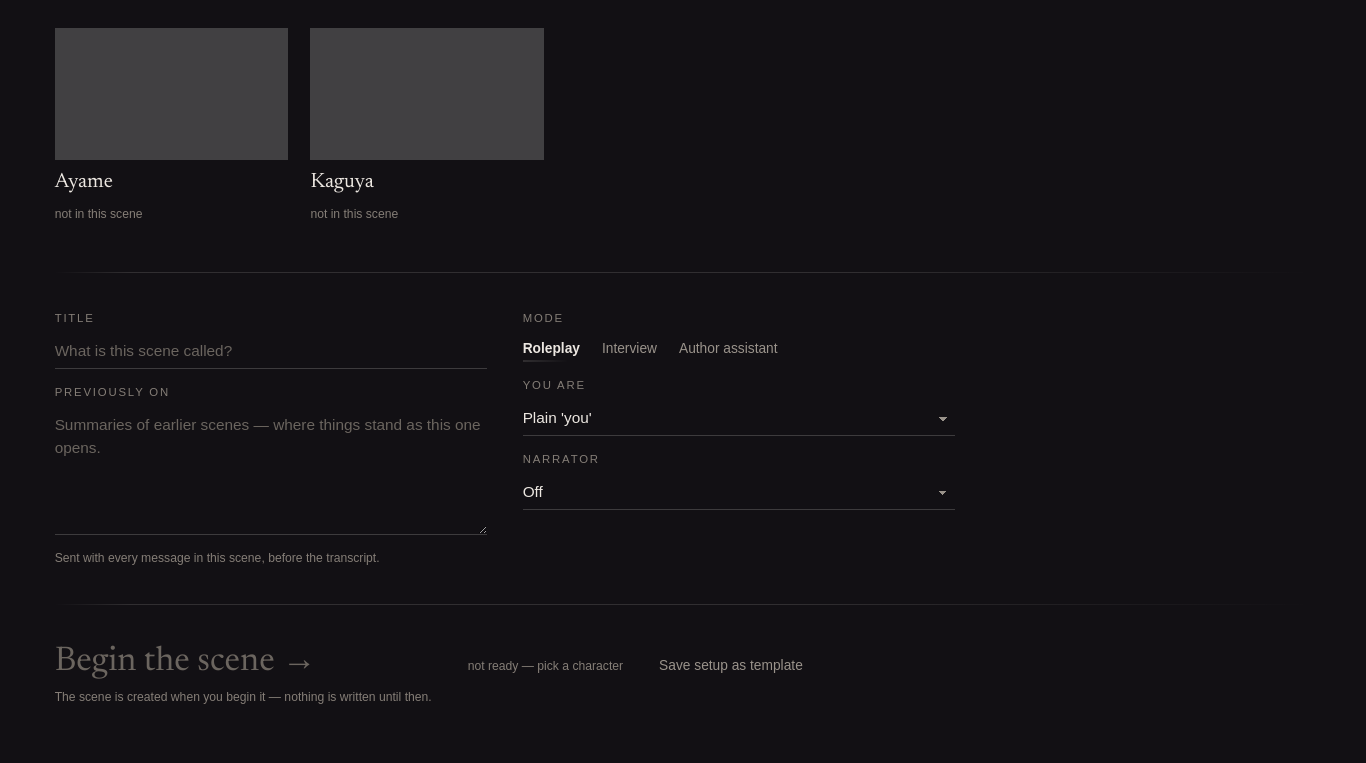
it: saved setups › refuses to save a template with no cast
(page scrolled)
Step 1. Click the button "Save setup as template" → click(731, 666), box [659,658,803,675]
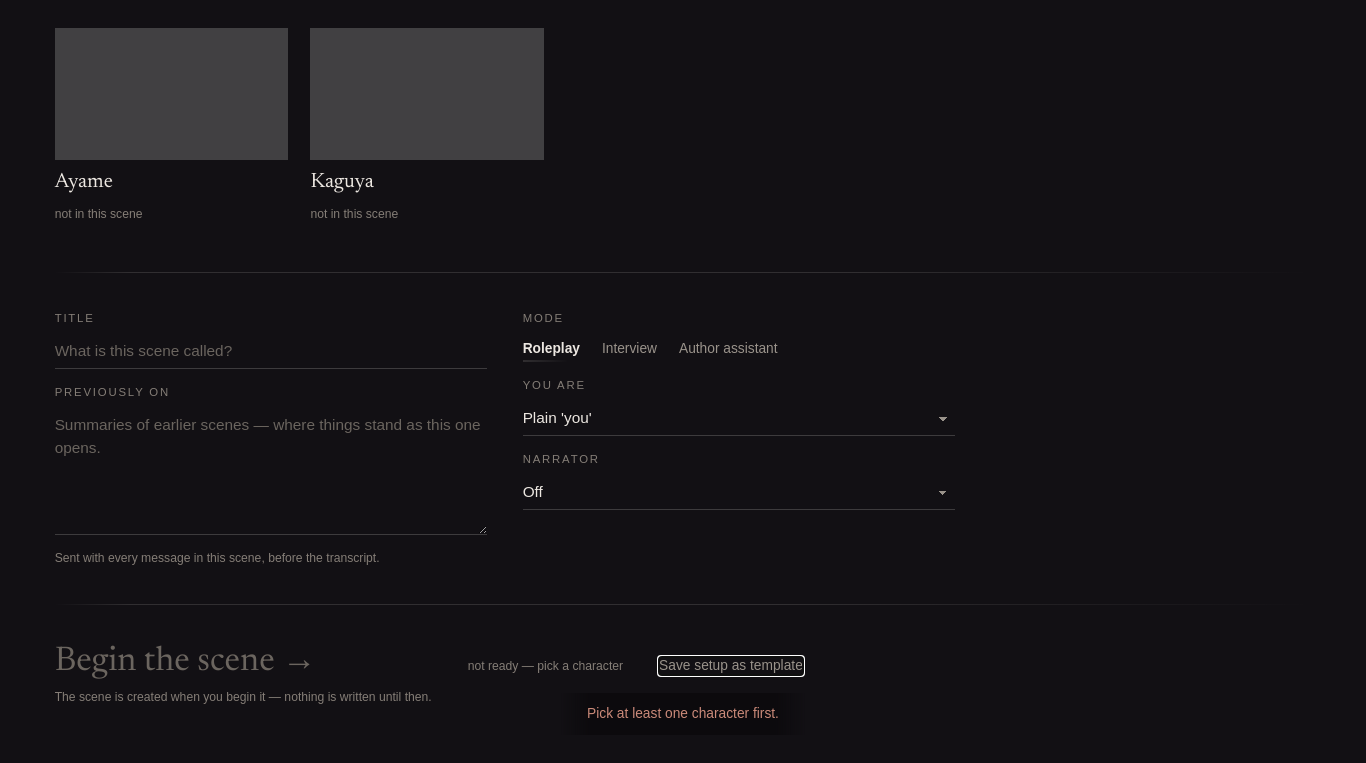
Result: the text "Pick at least one character first." is shown at [561,693,805,735]
